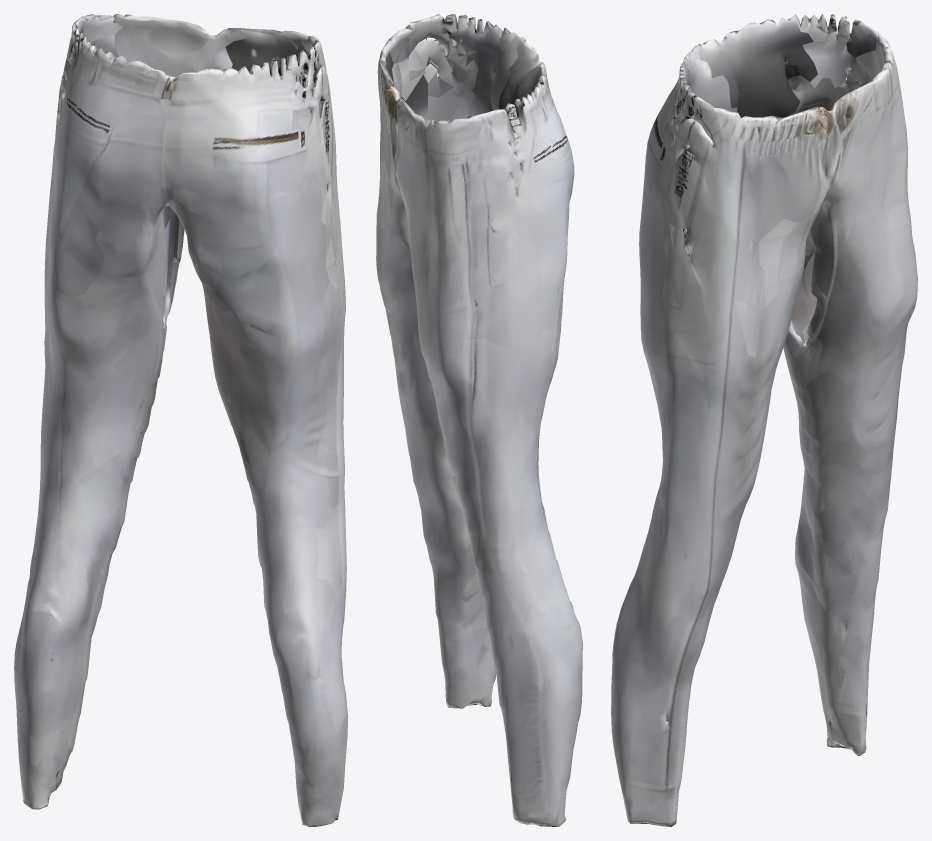
File: pant2.glb
The picture shows the model from 3 angles, left to right: view 1: azimuth 30°, elevation 25°; view 2: azimuth 150°, elevation 25°; view 3: azimuth 270°, elevation 25°; orthographic projection. The views are drawn at different scales.
Size of the model in its own units: 0.3649 by 1 by 0.3702.
Materials: 1 (1 with a texture image).
